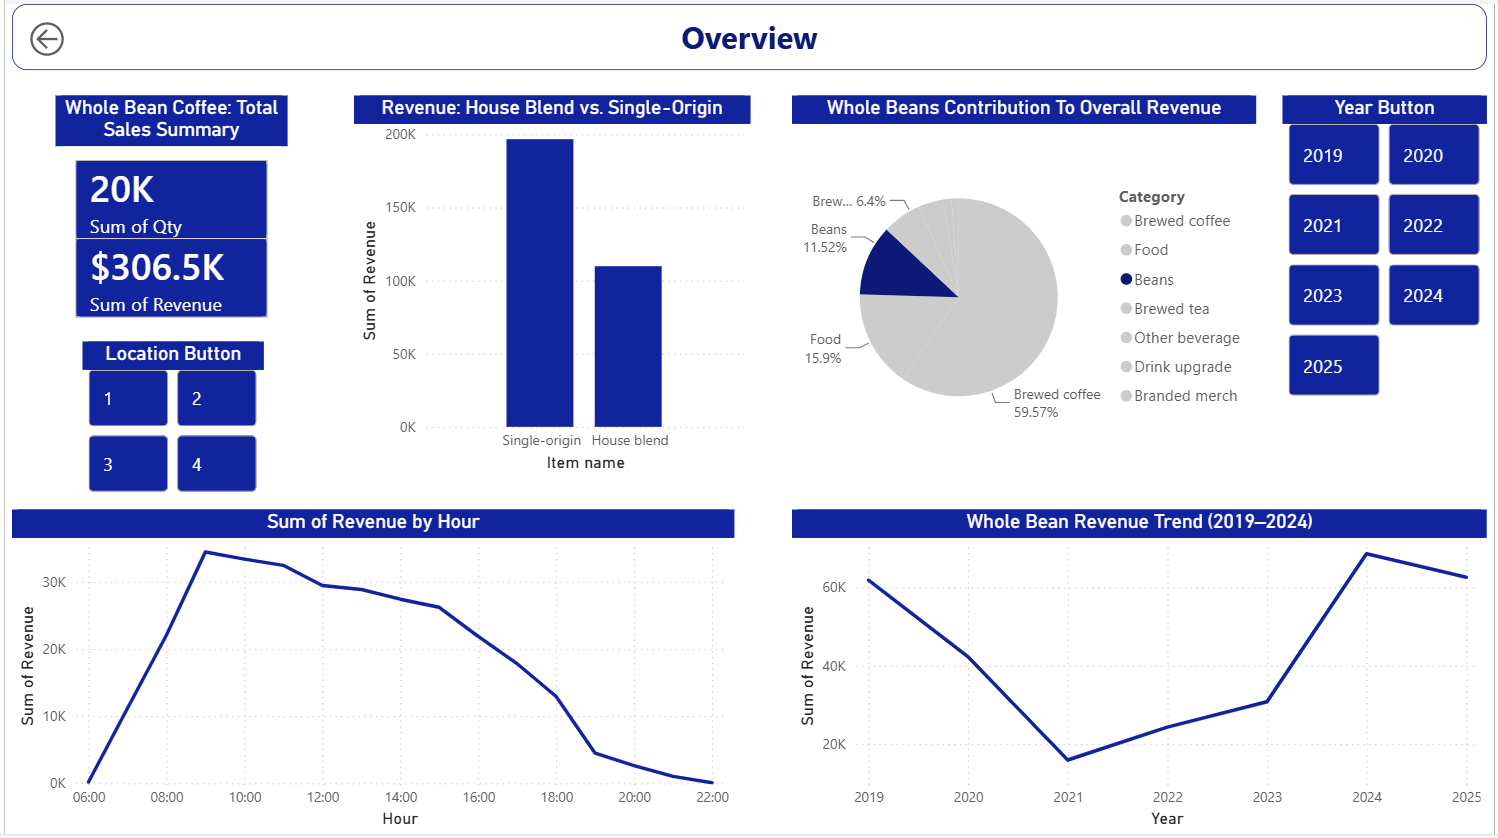

The dashboard page shown, as its layout file describes it:
{"tool":"powerbi","page":{"name":"Overview","canvas":[1280,720],"ordinal":1},"visuals":[{"type":"clusteredColumnChart","title":"Revenue: House Blend vs. Single-Origin","fields":{"Category":["PriceList.Item name"],"Y":["Sum(TransactionData.Revenue)"]},"box":[296.8,78.7,343.7,330.1],"z":0},{"type":"lineChart","title":"Sum of Revenue by Hour","fields":{"Category":["TransactionData.Hour","TransactionData.Time"],"Y":["Sum(TransactionData.Revenue)"]},"box":[0,439.1,626.9,280.1],"z":1000},{"type":"advancedSlicerVisual","title":"Year Button","fields":{"Values":["TransactionData.Date.Variation.Date Hierarchy.Year"]},"box":[1102.3,78.7,177.2,268],"z":2000},{"type":"cardVisual","title":"Whole Bean Coffee: Total Sales Summary","fields":{"Data":["Sum(TransactionData.Qty)","Sum(TransactionData.Revenue)"]},"box":[37.9,78.7,201.4,210.5],"z":3000},{"type":"lineChart","title":"Whole Bean Revenue Trend (2019–2024)","fields":{"Category":["TransactionData.Date.Variation.Date Hierarchy.Year","TransactionData.Date.Variation.Date Hierarchy.Quarter","TransactionData.Date.Variation.Date Hierarchy.Month","TransactionData.Date.Variation.Date Hierarchy.Day"],"Y":["Sum(TransactionData.Revenue)"]},"box":[676.8,439.1,602.7,280.1],"z":4000},{"type":"advancedSlicerVisual","title":"Location Button","fields":{"Values":["TransactionData.Location"]},"box":[60.6,292.2,157.5,136.3],"z":5000},{"type":"pieChart","title":"Whole Beans Contribution To Overall Revenue ","fields":{"Category":["PriceList.Category"],"Y":["Sum(TransactionData.Revenue)"]},"box":[676.8,78.7,402.8,330.1],"z":6000},{"type":"textbox","box":[0,0,1279.5,57.5],"z":7000},{"type":"actionButton","box":[10,10,100,40],"z":8000}]}

Visuals, with their boxes in screenshot pixels (x1, y1, x2, y2), scaled from the page's 1280x720 canvas onto the 1498x838 screenshot:
"Revenue: House Blend vs. Single-Origin" clusteredColumnChart: bbox=(347, 92, 750, 476)
"Sum of Revenue by Hour" lineChart: bbox=(0, 511, 734, 837)
"Year Button" advancedSlicerVisual: bbox=(1290, 92, 1497, 404)
"Whole Bean Coffee: Total Sales Summary" cardVisual: bbox=(44, 92, 280, 337)
"Whole Bean Revenue Trend (2019–2024)" lineChart: bbox=(792, 511, 1497, 837)
"Location Button" advancedSlicerVisual: bbox=(71, 340, 255, 499)
"Whole Beans Contribution To Overall Revenue " pieChart: bbox=(792, 92, 1263, 476)
textbox: bbox=(0, 0, 1497, 67)
actionButton: bbox=(12, 12, 129, 58)
